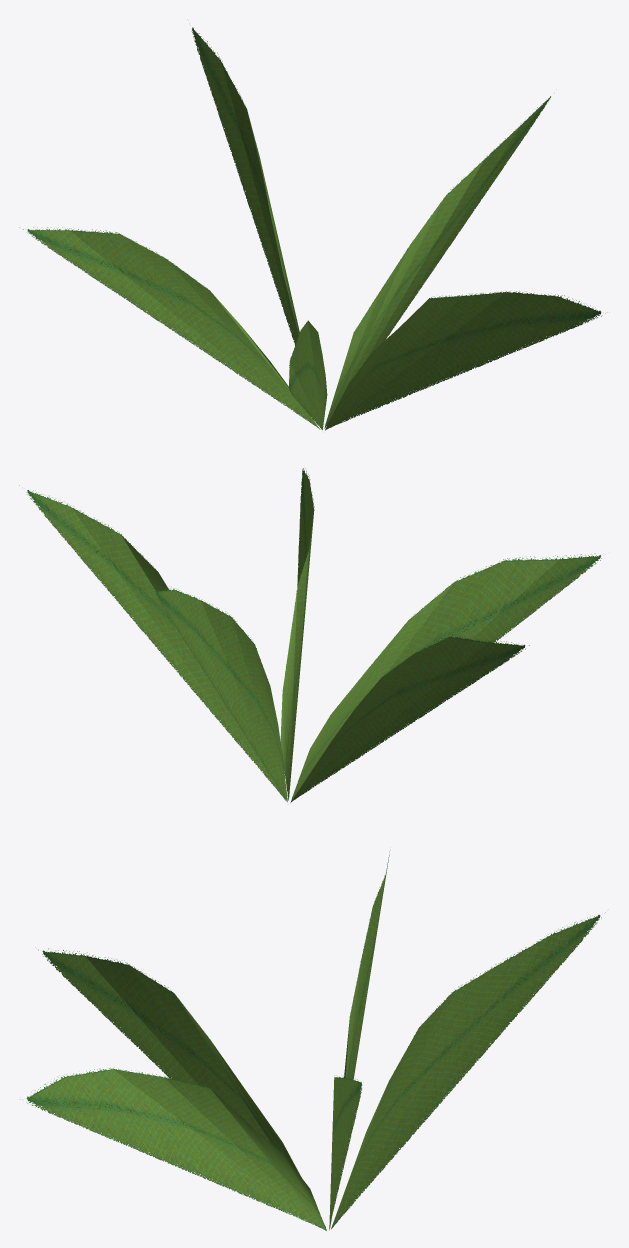
Rendered from lemonlime.obj.
The picture shows the model from 3 angles, top to bottom: view 1: azimuth 30°, elevation 25°; view 2: azimuth 150°, elevation 25°; view 3: azimuth 270°, elevation 25°; orthographic projection. The views are drawn at different scales.
Size of the model in its own units: 15.87 by 9.02 by 14.99.
